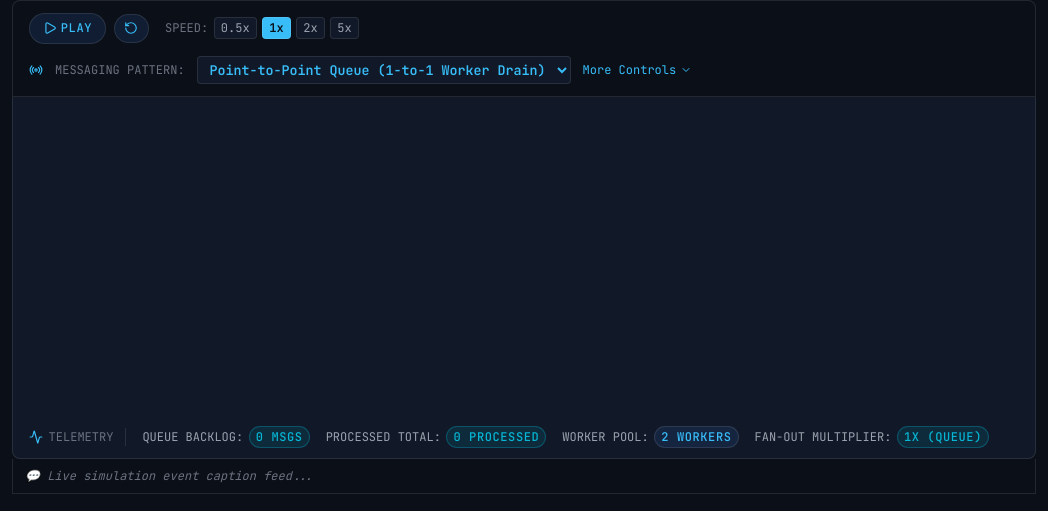
it: MessagingVisualizer (Catalog #7) › allows changing messaging pattern to Pub/Sub fan-out mode
Select "Pub/Sub Fan-Out (1-to-Many Channels)" in the dropdown. click: (384, 70)
box: [197,56,571,84]
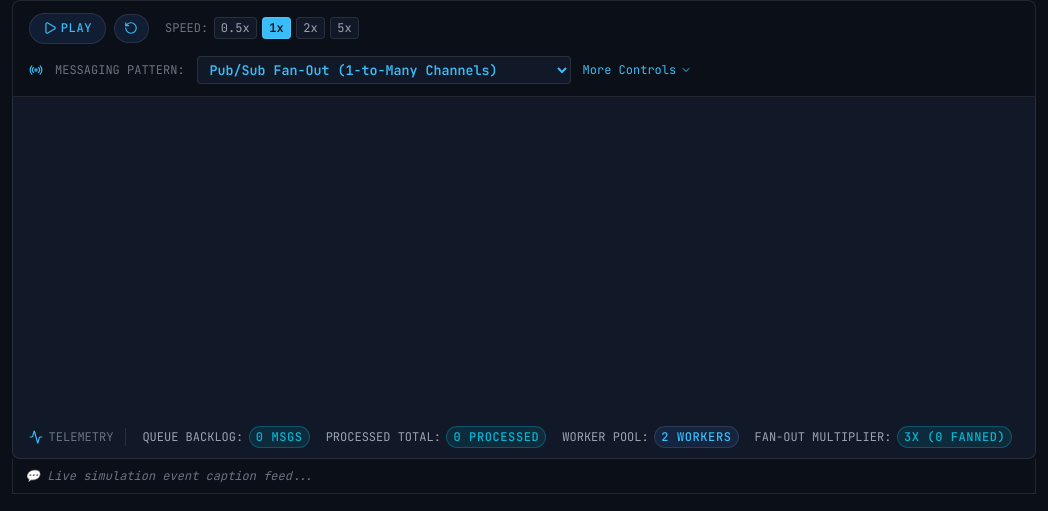
Expected: the text "3x (0 fanned)" is shown, [897,426,1012,448]
